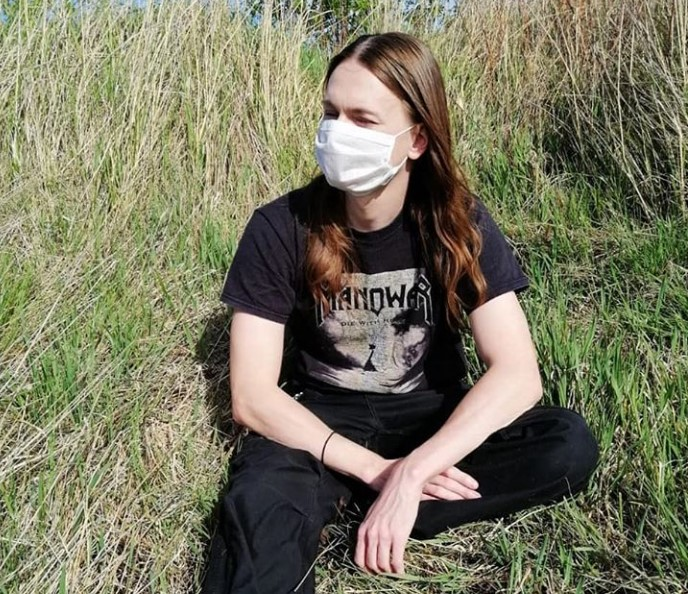face_with_mask: (315, 47, 433, 194)
